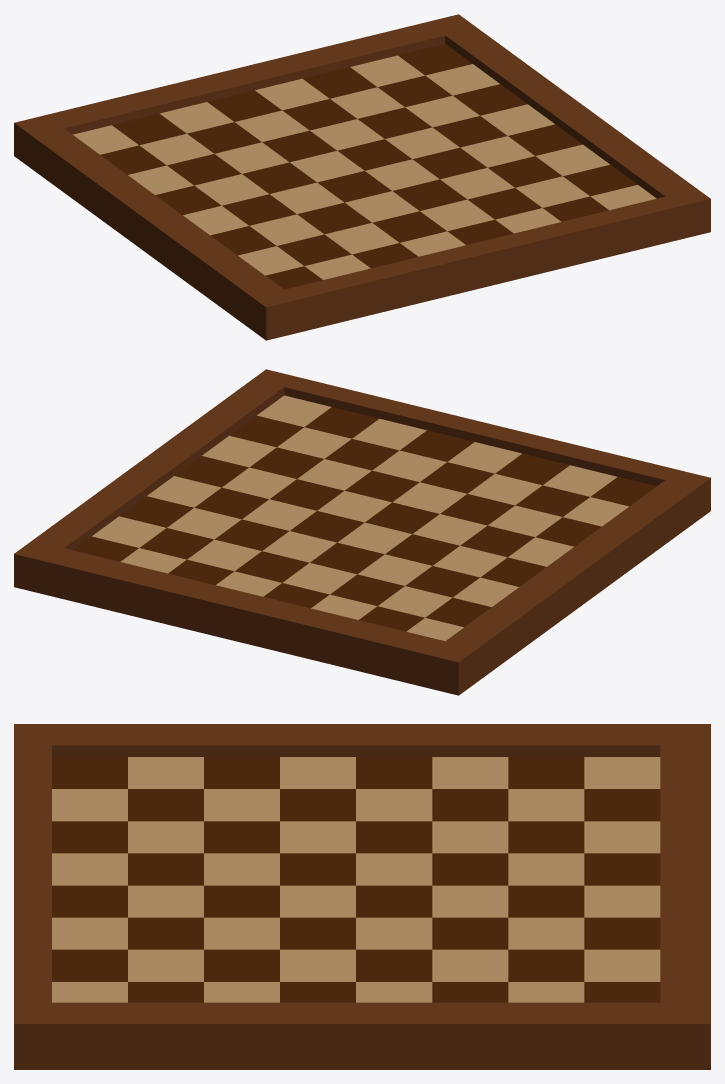
File: bord.obj
3 views of the same model, one above another, from view 1: azimuth 30°, elevation 25°; view 2: azimuth 150°, elevation 25°; view 3: azimuth 270°, elevation 25° (orthographic). The views are drawn at different scales.
Size of the model in its own units: 5.6 by 0.4 by 5.5.
1 material, 1 textured.
